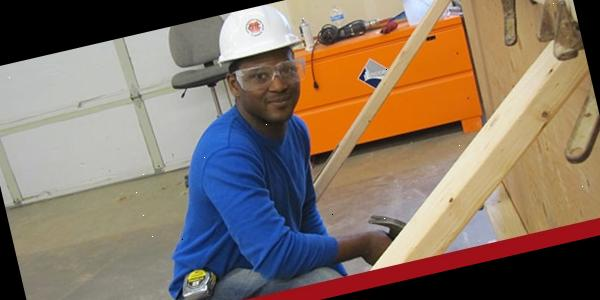helmet: (205, 0, 304, 69)
no_wear: (132, 109, 342, 300)
